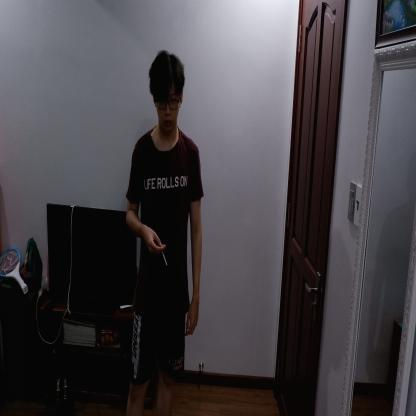cigarette: (161, 249, 168, 268)
person: (126, 47, 205, 415)
